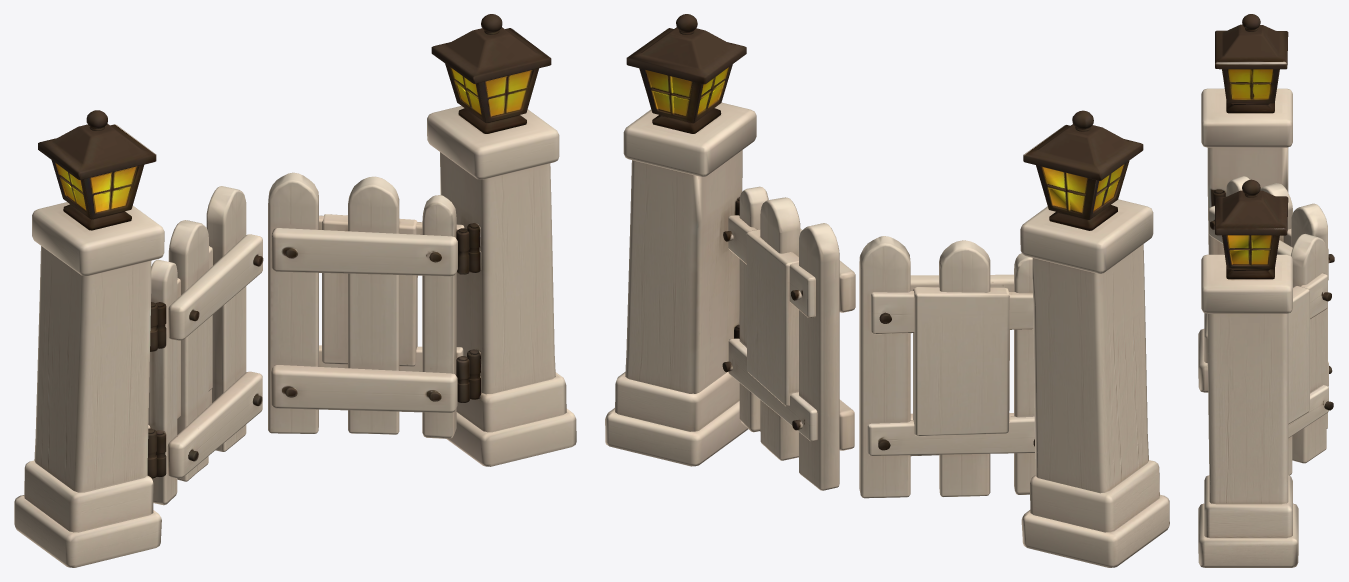
3 views of the same model, side by side, from view 1: azimuth 30°, elevation 25°; view 2: azimuth 150°, elevation 25°; view 3: azimuth 270°, elevation 25° (orthographic). The views are drawn at different scales.
Visible parts, largest first — view 1: garden-gate; view 2: garden-gate; view 3: garden-gate.
Boxes of the visible parts, x1,y1,x2,y2 form: garden-gate: (14, 14, 576, 567); garden-gate: (605, 14, 1169, 567); garden-gate: (1198, 14, 1334, 567).
Bounding box in the file's own units: 1.5 × 1.19 × 0.4038.
Materials: 1 (1 with a texture image).
